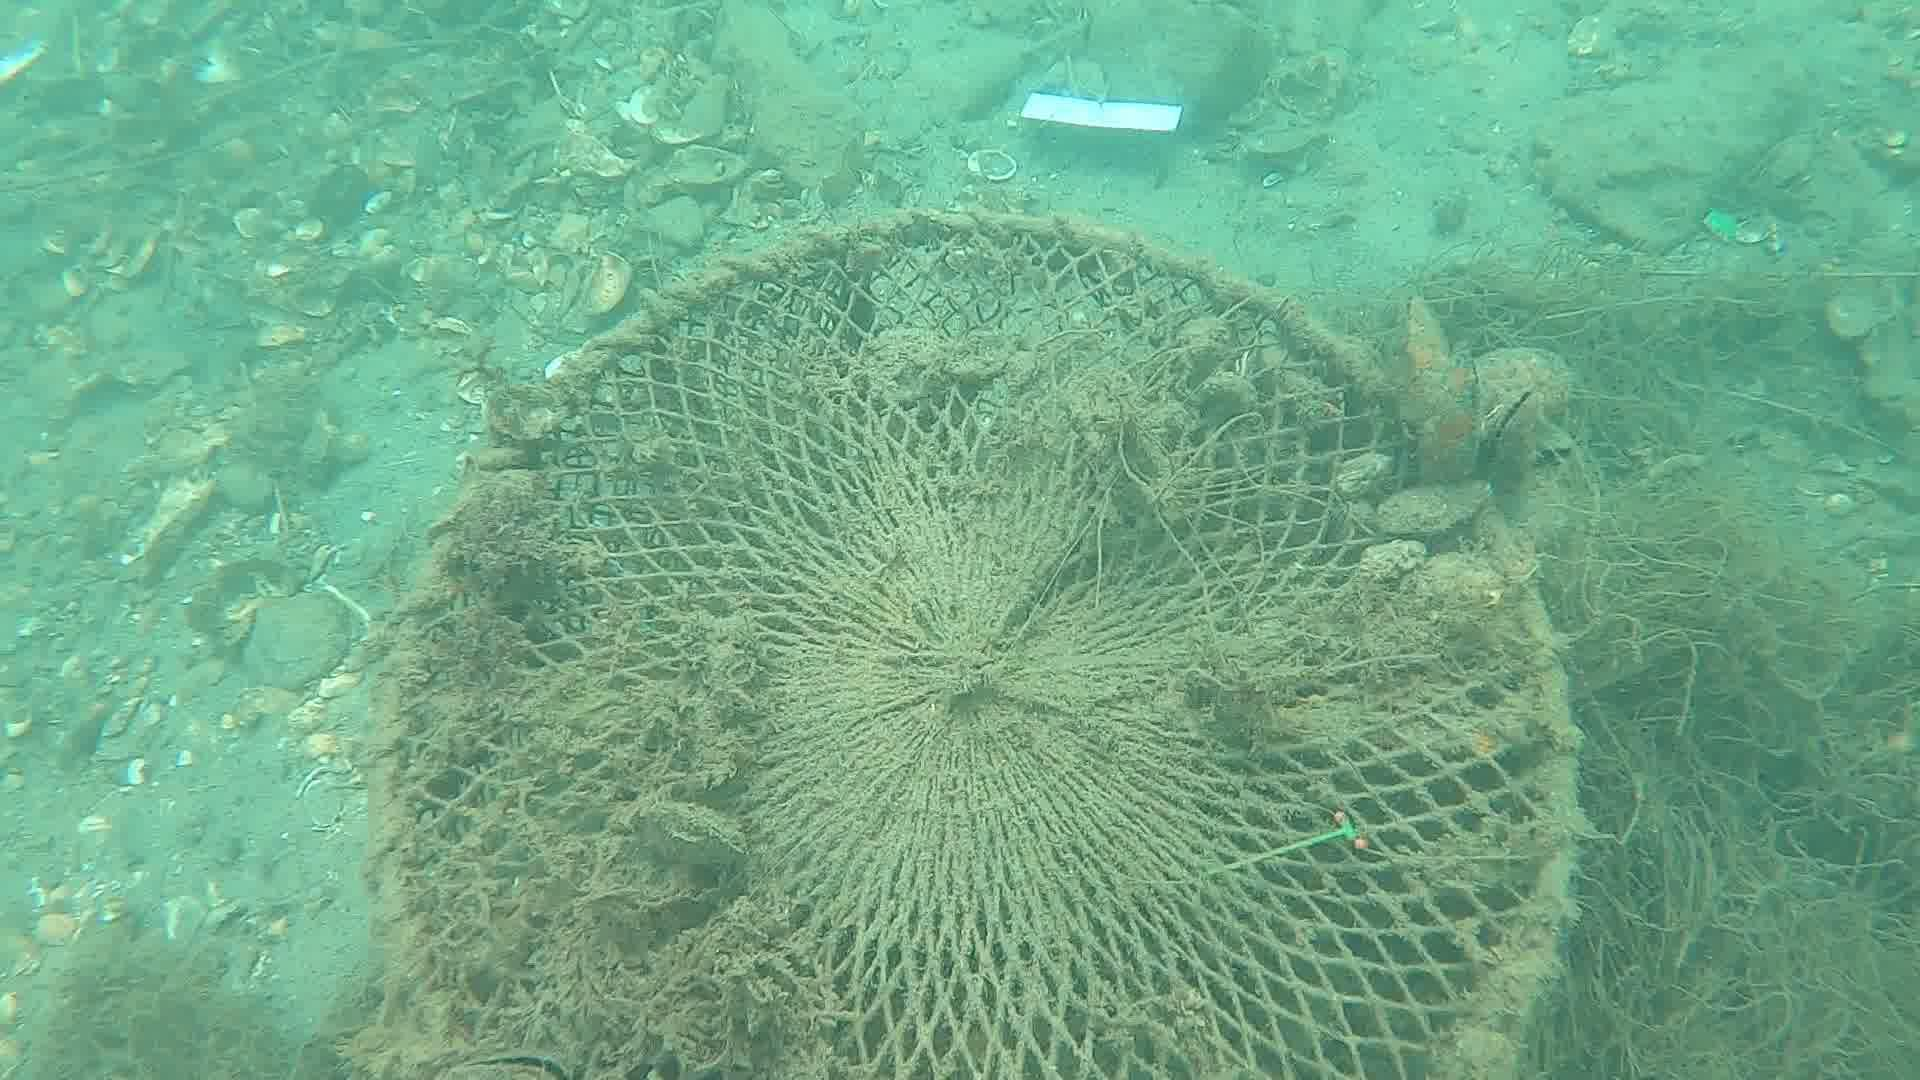circular fish trap: (361, 206, 1588, 1080)
